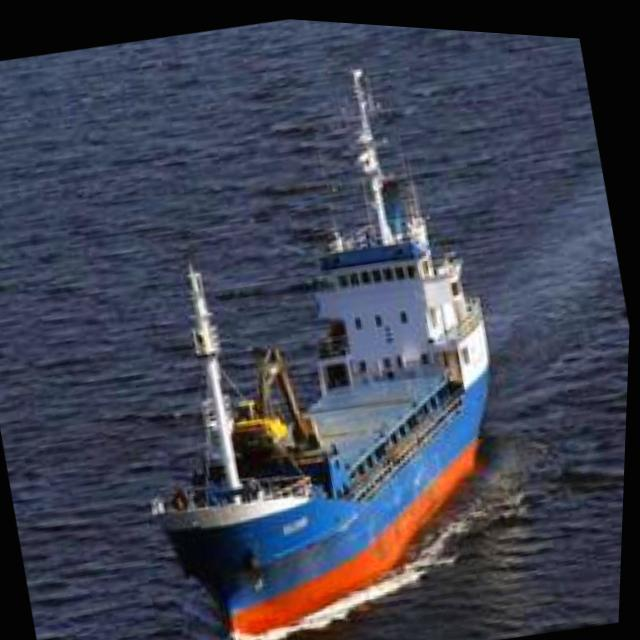ship2: (161, 63, 496, 632)
